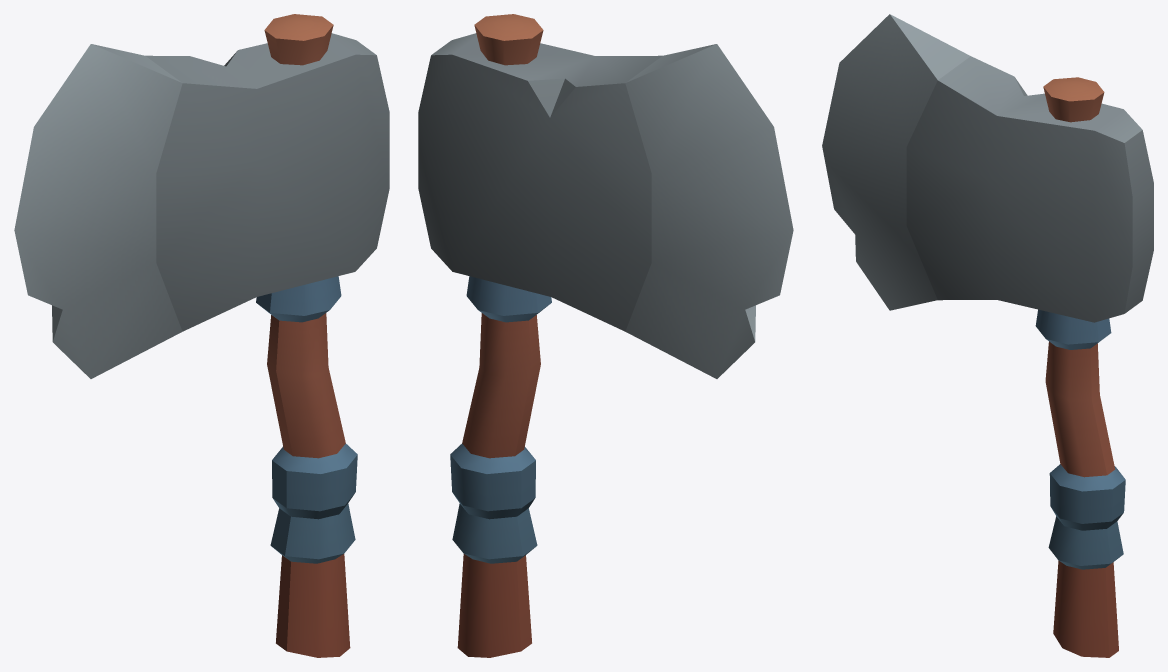
The model's file is axe_1handed.glb.
3 renders of one model, left to right at view 1: azimuth 30°, elevation 25°; view 2: azimuth 150°, elevation 25°; view 3: azimuth 330°, elevation 25°, orthographic. The views are drawn at different scales.
Bounding box in the file's own units: 0.7143 × 1.24 × 0.1753.
1 material, 1 textured.
